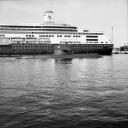submarine: (16, 45, 103, 60)
